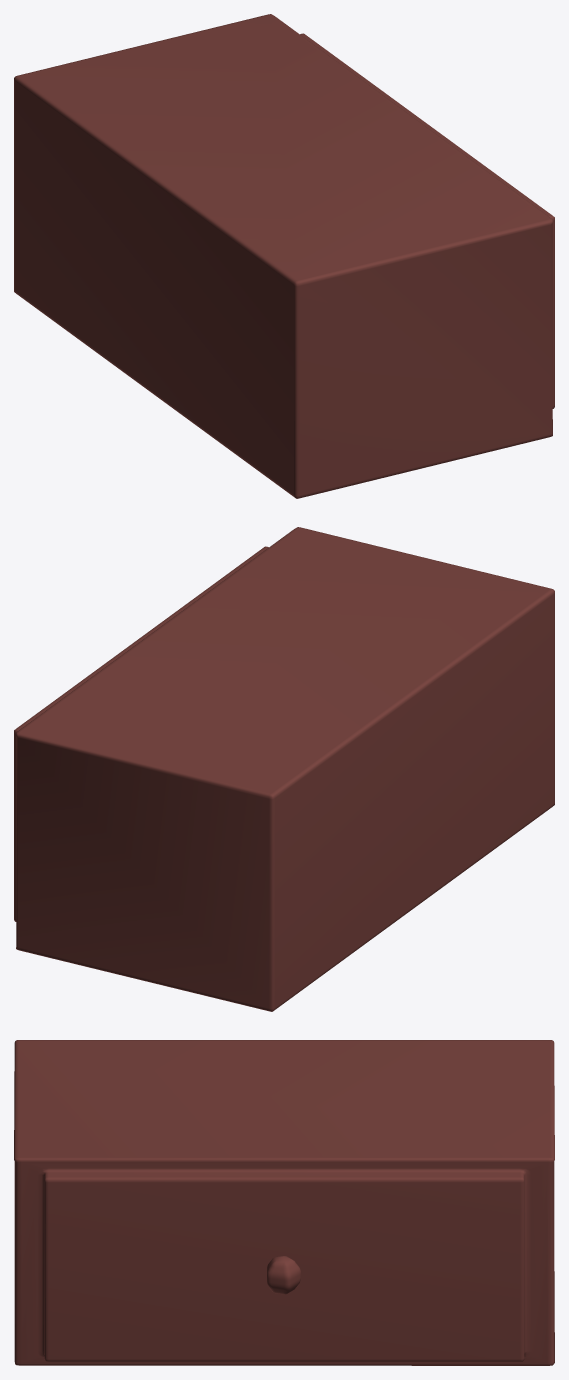
File: drawers.glb
3 views of the same model, one above another, from view 1: azimuth 30°, elevation 25°; view 2: azimuth 150°, elevation 25°; view 3: azimuth 270°, elevation 25° (orthographic). The views are drawn at different scales.
Parts seen in each view (by area): view 1: MediumFurniture; view 2: MediumFurniture; view 3: MediumFurniture.
Part boxes in pixels (x1,y1,x2,y2): MediumFurniture: (14, 14, 554, 498); MediumFurniture: (14, 527, 554, 1011); MediumFurniture: (14, 1040, 554, 1365).
Size of the model in its own units: 0.612 by 0.4157 by 0.9825.
1 material, 1 textured.
